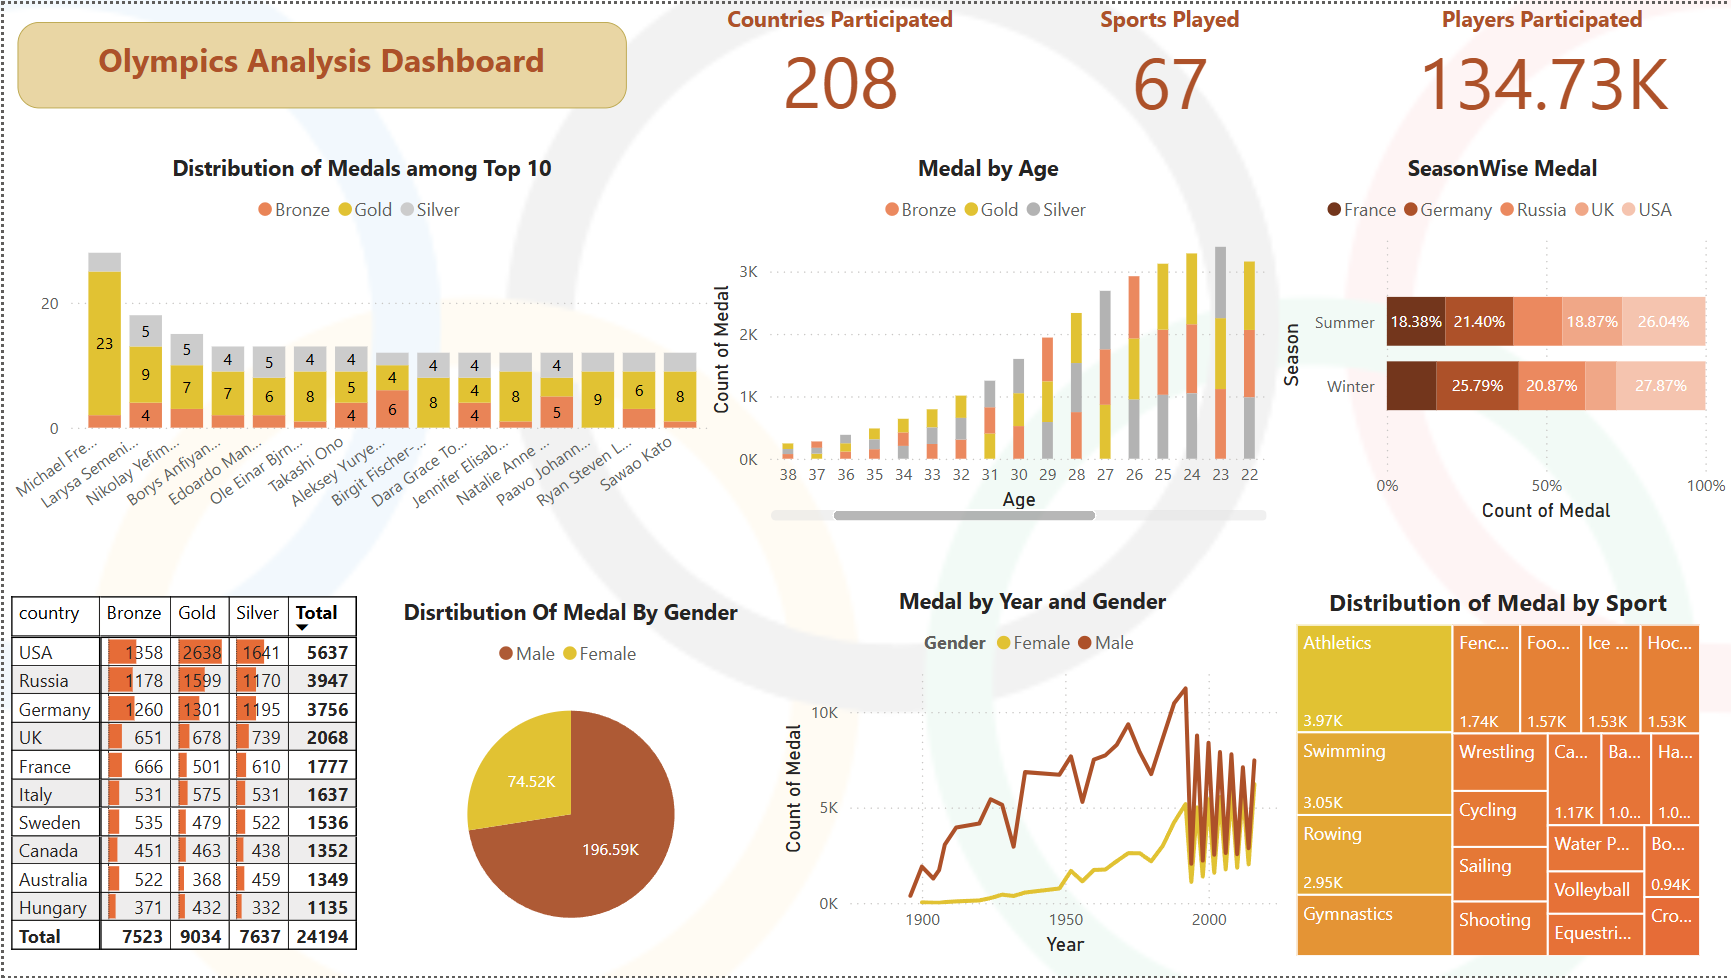

This screenshot's page, from the dashboard's own definition file:
{"tool":"powerbi","page":{"name":"Page 5","canvas":[1280,720],"ordinal":4},"visuals":[{"type":"pieChart","title":"Disrtibution Of Medal By Gender","fields":{"Y":["Olympics.Medal"],"Category":["Olympics.Gender"]},"box":[267.5,438.8,303.8,271.2],"z":0},{"type":"columnChart","title":"Distribution of Medals among Top 10","fields":{"Category":["Olympics.Name"],"Y":["Olympics.Medal"],"Series":["Olympics.Medal"]},"box":[0,110,530,277.5],"z":1000},{"type":"pivotTable","fields":{"Rows":["Olympics.country"],"Columns":["Olympics.Medal"],"Values":["Olympics.Medal"]},"box":[0,433.8,272.5,276.2],"z":2000},{"type":"treemap","title":"Distribution of Medal by Sport","fields":{"Group":["Olympics.Sport"],"Values":["Olympics.Medal"]},"box":[952.5,431.2,308.8,278.8],"z":3000},{"type":"hundredPercentStackedBarChart","title":"SeasonWise Medal ","fields":{"Category":["Olympics.Season"],"Y":["Olympics.Medal"],"Series":["Olympics.country"]},"box":[940,110,340,277.5],"z":4000},{"type":"ribbonChart","title":"Medal by Age ","fields":{"Category":["Olympics.Age"],"Y":["Olympics.Medal"],"Series":["Olympics.Medal"]},"box":[517.5,110,422.5,277.5],"z":5000},{"type":"lineChart","title":"Medal by Year and Gender","fields":{"Category":["Olympics.Year"],"Y":["Olympics.Medal"],"Series":["Olympics.Gender"]},"box":[571.2,431.2,381.2,277.5],"z":6000},{"type":"card","title":"Countries Participated","fields":{"Values":["Olympics.country"]},"box":[490,0,258.8,86.2],"z":7000},{"type":"card","title":"Sports Played","fields":{"Values":["Olympics.Sport"]},"box":[740,0,247.5,88.8],"z":8000},{"type":"textbox","box":[10,13.8,451.2,63.8],"z":9000},{"type":"card","title":"Players Participated","fields":{"Values":["Olympics.Name"]},"box":[998.8,0,281.2,88.8],"z":10000}]}

Visuals, with their boxes in screenshot pixels (x1, y1, x2, y2), scaled from the page's 1280x720 canvas onto the 1731x978 screenshot:
"Disrtibution Of Medal By Gender" pieChart: detection(362, 596, 773, 964)
"Distribution of Medals among Top 10" columnChart: detection(0, 149, 717, 526)
pivotTable - Olympics.country x Olympics.Medal: detection(0, 589, 369, 964)
"Distribution of Medal by Sport" treemap: detection(1288, 586, 1706, 964)
"SeasonWise Medal " hundredPercentStackedBarChart: detection(1271, 149, 1730, 526)
"Medal by Age " ribbonChart: detection(700, 149, 1271, 526)
"Medal by Year and Gender" lineChart: detection(772, 586, 1288, 963)
"Countries Participated" card: detection(663, 0, 1013, 117)
"Sports Played" card: detection(1001, 0, 1335, 121)
textbox: detection(14, 19, 624, 105)
"Players Participated" card: detection(1351, 0, 1730, 121)
